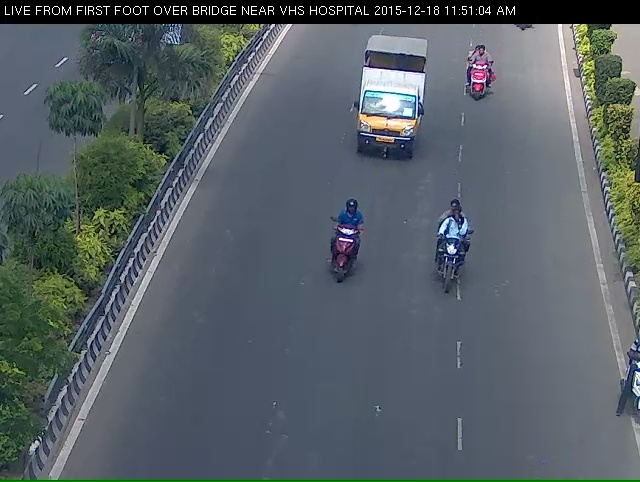Car: (357, 44, 422, 163)
Person: (435, 217, 472, 314), (324, 218, 362, 305), (470, 52, 492, 112)
